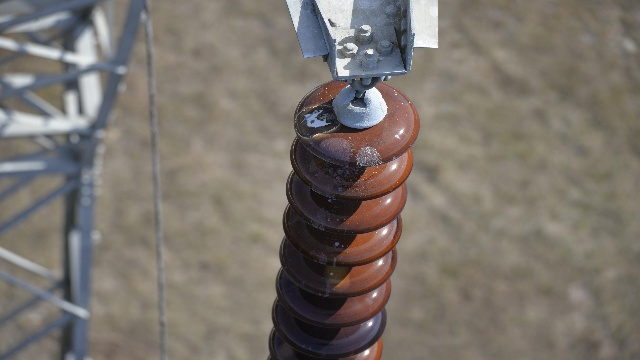insulator_unspecified: (262, 78, 418, 358)
pollution_flashover_local: (292, 105, 342, 136), (327, 262, 352, 291)
